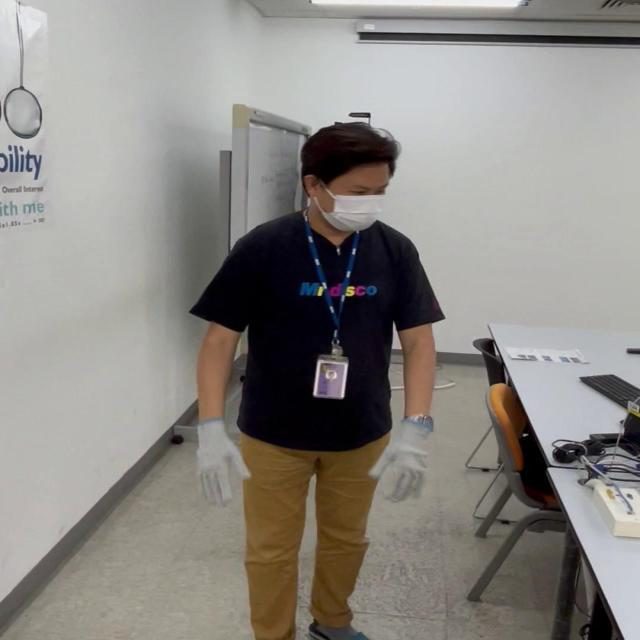gloved_hand: (370, 411, 439, 496), (194, 420, 263, 501)
